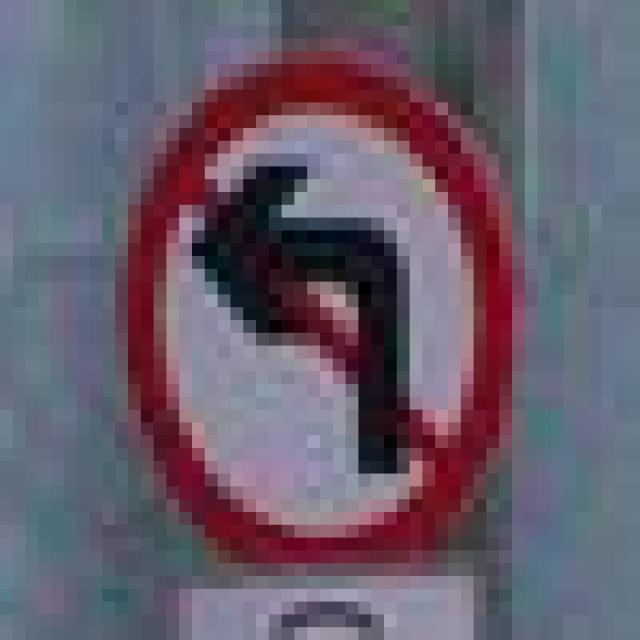LEFT_TURN_PROHIBITED: (115, 38, 512, 550)
